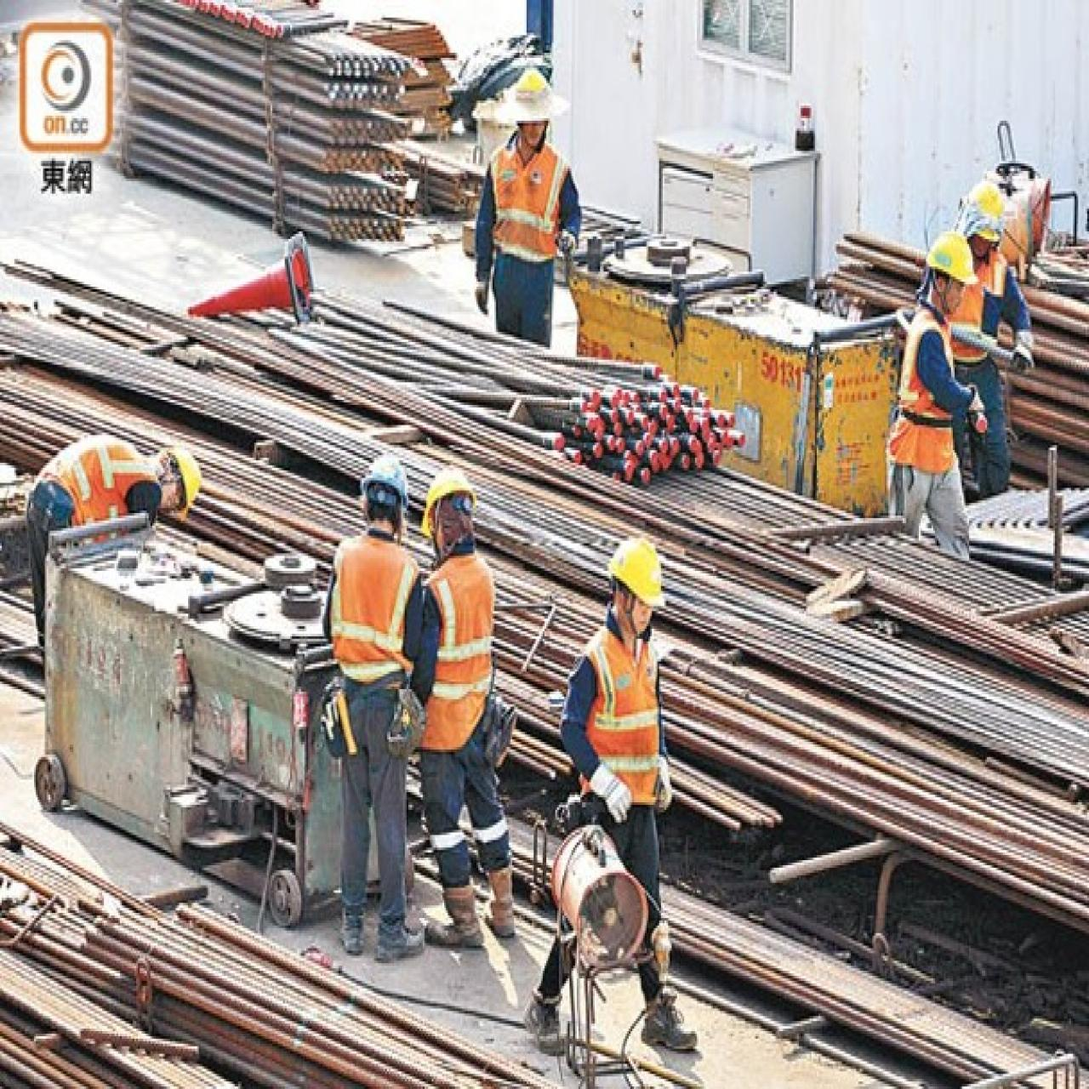Person: (527, 517, 710, 1070), (306, 437, 443, 972), (394, 455, 525, 948), (15, 416, 205, 682), (459, 56, 595, 361), (872, 223, 993, 550), (933, 169, 1042, 501)
Safety_Vest: (575, 620, 666, 806), (416, 554, 497, 760), (30, 432, 162, 553), (329, 532, 425, 691), (891, 299, 962, 480), (485, 132, 572, 276), (929, 247, 1011, 364)
